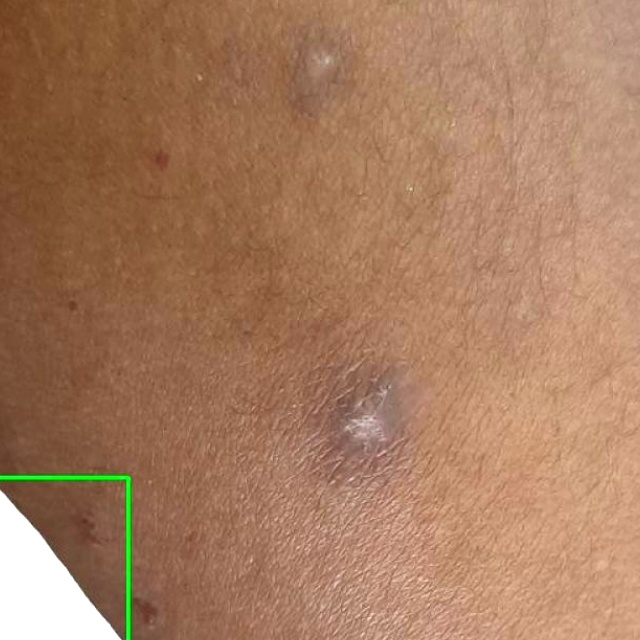Scabies: (0, 478, 129, 639)
